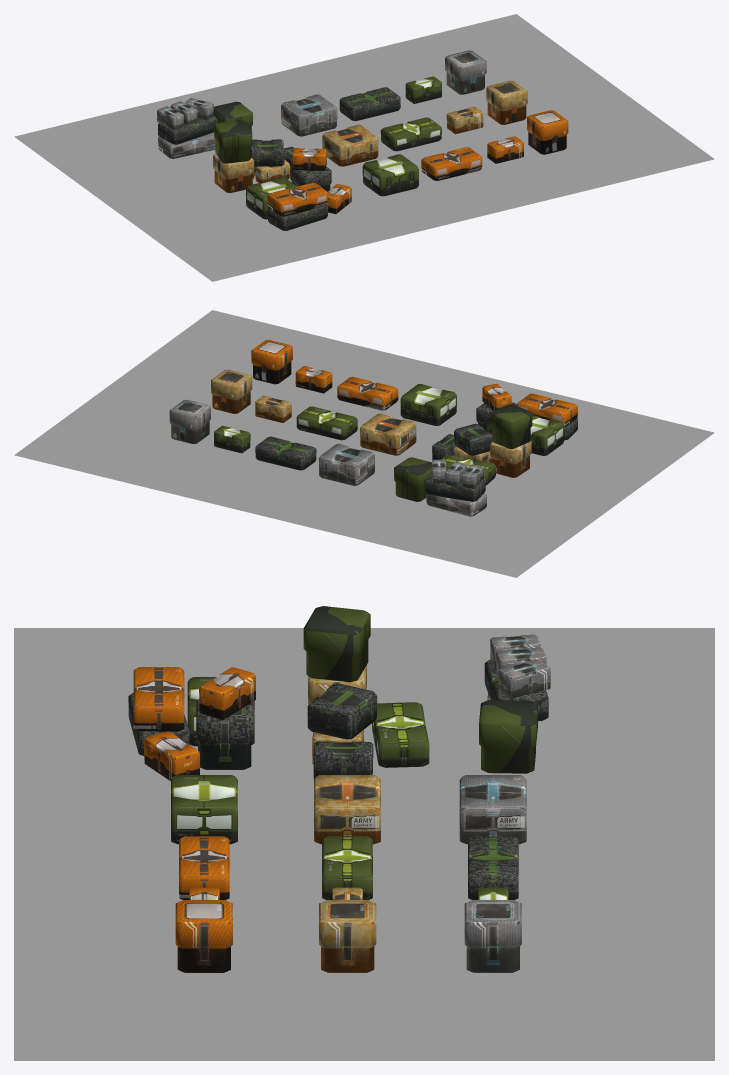
3 renders of one model, top to bottom at view 1: azimuth 30°, elevation 25°; view 2: azimuth 150°, elevation 25°; view 3: azimuth 270°, elevation 25°, orthographic. The views are drawn at different scales.
Visible parts, largest first — view 1: Plane, Large.002, Large, Large.001, Large02.001, Large02, Large02.002, Medium.002, Medium.003, Medium, Medium.001, Large02.005 (+15 smaller); view 2: Plane, Large.001, Large, Large.002, Large02.005, Large02, Large02.001, Large02.002, Medium, Medium.001, Medium.002, Large02.006 (+11 smaller); view 3: Plane, Large02.005, Large.002, Large, Large.001, Large02.006, Large02.002, Large02, Large02.001, Medium.005, Medium.003, Large02.003 (+13 smaller).
Part boxes in pixels (<box>): Plane: <box>14,14,714,281</box>; Large.002: <box>281,94,337,136</box>; Large: <box>362,154,418,196</box>; Large.001: <box>322,124,378,166</box>; Large02.001: <box>486,80,527,124</box>; Large02: <box>527,110,568,154</box>; Large02.002: <box>445,50,486,94</box>; Medium.002: <box>339,87,400,121</box>; Medium.003: <box>267,182,328,216</box>; Medium: <box>421,147,482,180</box>; Medium.001: <box>380,117,441,151</box>; Large02.005: <box>214,120,252,163</box>; Plane: <box>14,310,714,577</box>; Large.001: <box>360,413,416,455</box>; Large: <box>400,384,456,425</box>; Large.002: <box>318,443,374,485</box>; Large02.005: <box>490,404,532,448</box>; Large02: <box>251,340,292,384</box>; Large02.001: <box>211,369,252,413</box>; Large02.002: <box>169,399,210,444</box>; Medium: <box>337,376,398,410</box>; Medium.001: <box>296,406,357,440</box>; Medium.002: <box>255,436,316,470</box>; Large02.006: <box>394,457,431,501</box>; Plane: <box>14,628,714,1060</box>; Large02.005: <box>303,606,370,682</box>; Large.002: <box>459,775,526,844</box>; Large: <box>171,775,237,844</box>; Large.001: <box>314,775,380,844</box>; Large02.006: <box>479,700,537,773</box>; Large02.002: <box>464,900,521,972</box>; Large02: <box>175,900,232,972</box>; Large02.001: <box>319,900,376,972</box>; Medium.005: <box>372,702,429,767</box>; Medium.003: <box>133,667,184,731</box>; Large02.003: <box>196,699,253,769</box>.
Size of the model in its own units: 14.87 by 1.7 by 10.17.
Materials: 6 (5 with a texture image).
